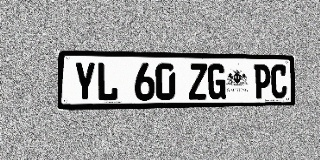0: (156, 63, 175, 100)
6: (135, 63, 155, 101)
C: (271, 65, 287, 98)
G: (208, 64, 226, 100)
L: (97, 62, 118, 101)
P: (254, 64, 270, 99)
Y: (74, 62, 96, 102)
Z: (189, 63, 207, 100)
